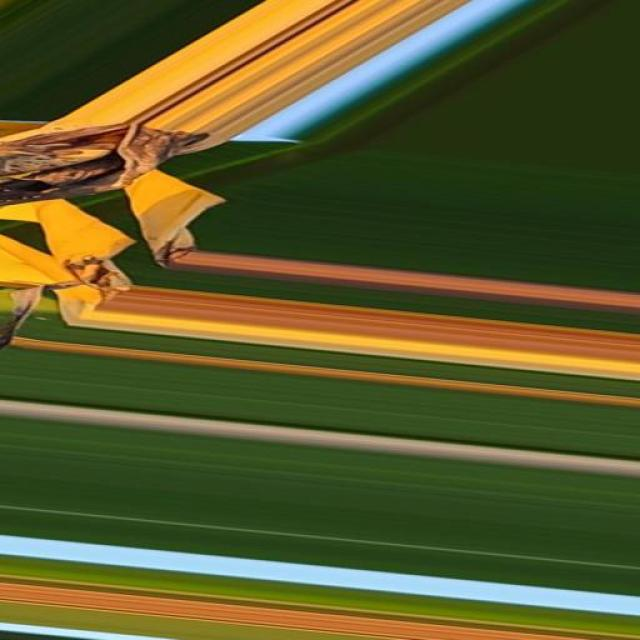Cordana: (0, 0, 489, 359)
